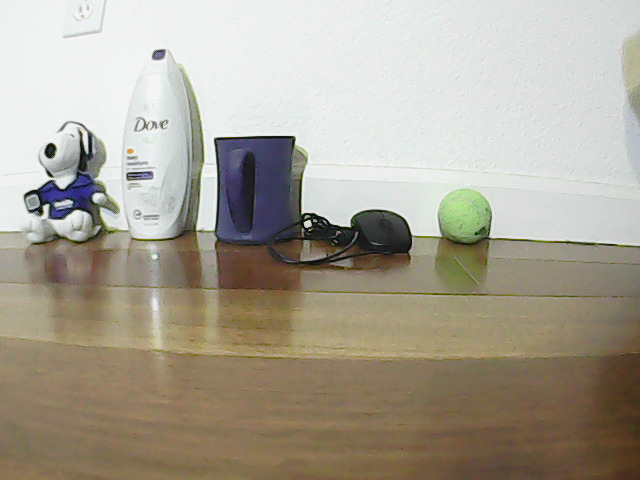ball: (429, 187, 511, 249)
mouse: (355, 200, 420, 258)
mug: (211, 127, 303, 242)
snoopy: (22, 113, 105, 246)
soap: (128, 39, 190, 243)
